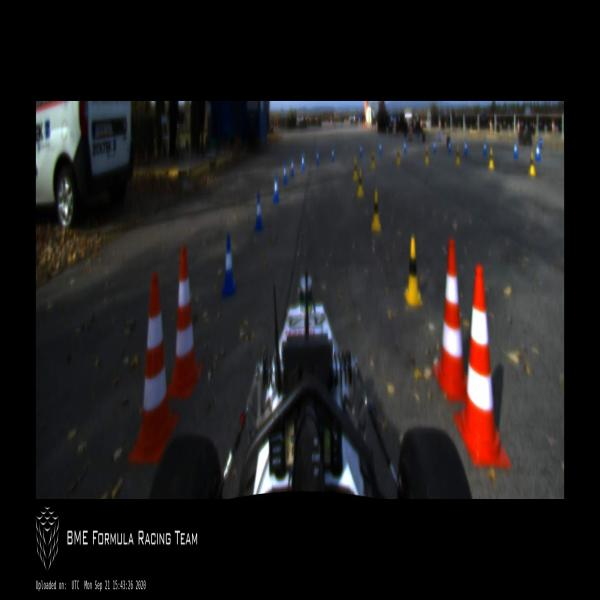blue_cone: (219, 234, 236, 297), (253, 191, 264, 232), (272, 174, 280, 204), (282, 163, 288, 185), (290, 156, 294, 176), (331, 144, 335, 162), (536, 143, 540, 161), (514, 141, 518, 158), (358, 142, 362, 159), (483, 140, 487, 156), (378, 140, 382, 155), (464, 139, 468, 153), (316, 147, 319, 165), (433, 139, 437, 152), (448, 138, 451, 153), (302, 152, 304, 170), (404, 141, 406, 154)
large_orange_cone: (454, 265, 511, 469), (129, 272, 179, 463), (432, 239, 468, 402), (167, 245, 203, 398)
yellow_cone: (402, 236, 423, 308), (370, 189, 382, 232), (356, 167, 364, 199), (528, 151, 536, 176), (488, 146, 495, 170), (352, 158, 358, 182), (396, 146, 401, 166), (455, 145, 460, 165), (371, 149, 375, 169), (425, 145, 429, 165)
